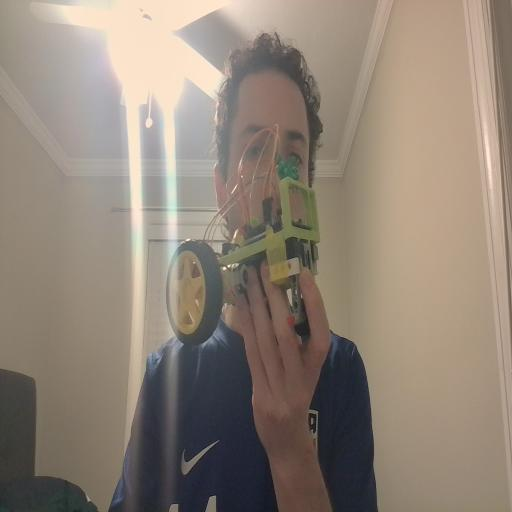green LEGO minifig: (275, 148, 300, 182)
